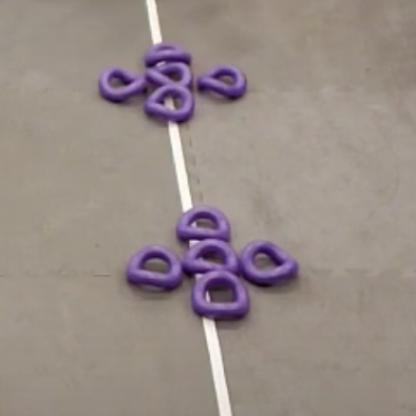ring: (238, 238, 300, 286), (190, 269, 250, 316), (180, 236, 238, 277), (127, 245, 180, 287), (175, 204, 229, 242), (143, 83, 195, 119), (196, 64, 247, 98), (97, 66, 147, 100), (143, 60, 193, 90), (142, 42, 191, 63)
